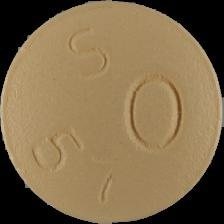61786-771: (0, 0, 224, 224)
